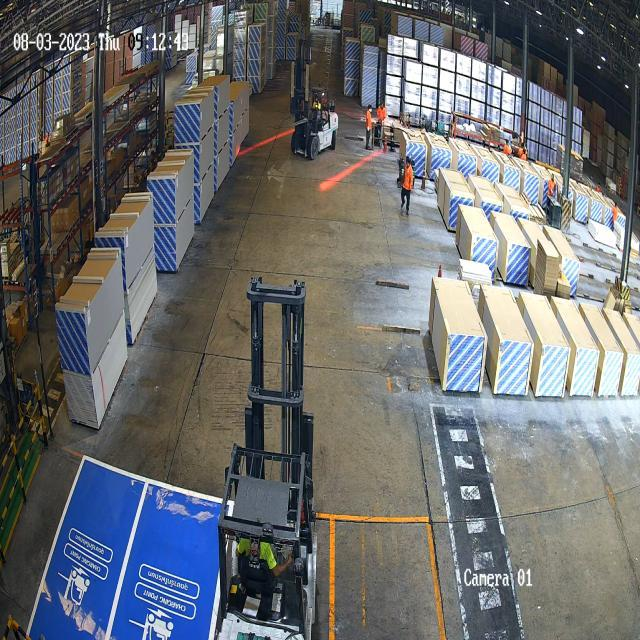driver: (234, 526, 293, 582), (312, 95, 322, 122)
forklift: (212, 266, 325, 640), (288, 60, 341, 171)
person: (400, 154, 414, 218), (364, 101, 372, 151), (376, 100, 386, 124), (548, 174, 556, 196)
